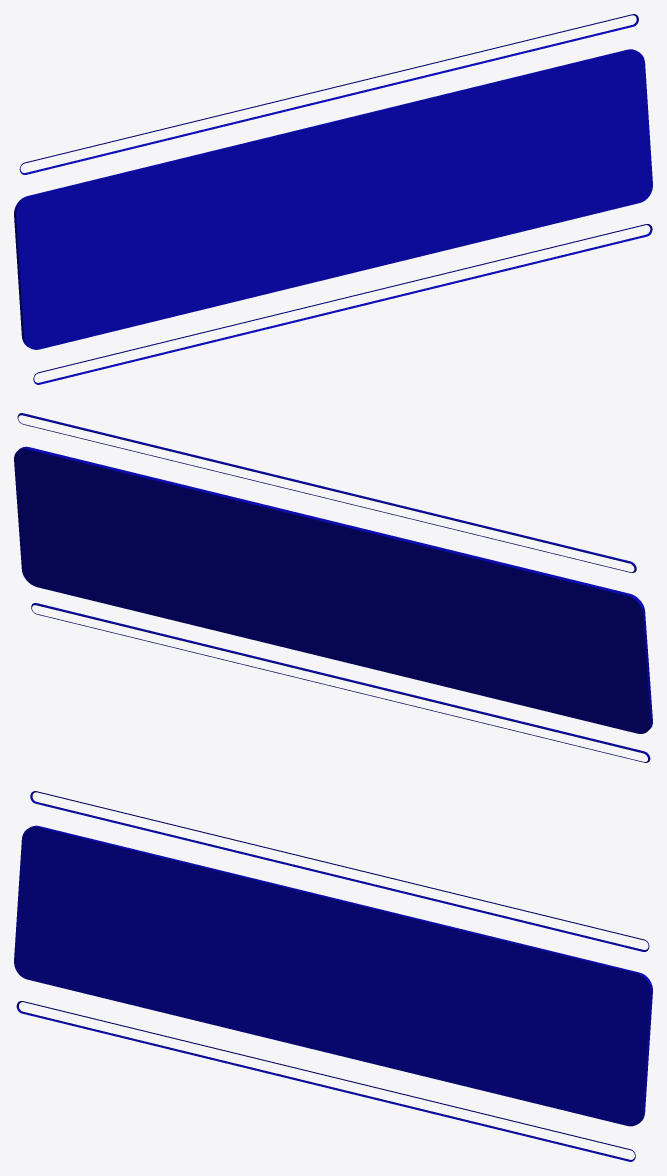
Rendered from pantalla.obj.
The picture shows the model from 3 angles, top to bottom: view 1: azimuth 30°, elevation 25°; view 2: azimuth 150°, elevation 25°; view 3: azimuth 330°, elevation 25°; orthographic projection.
Size of the model in its own units: 10.52 by 3.39 by 0.4394.
